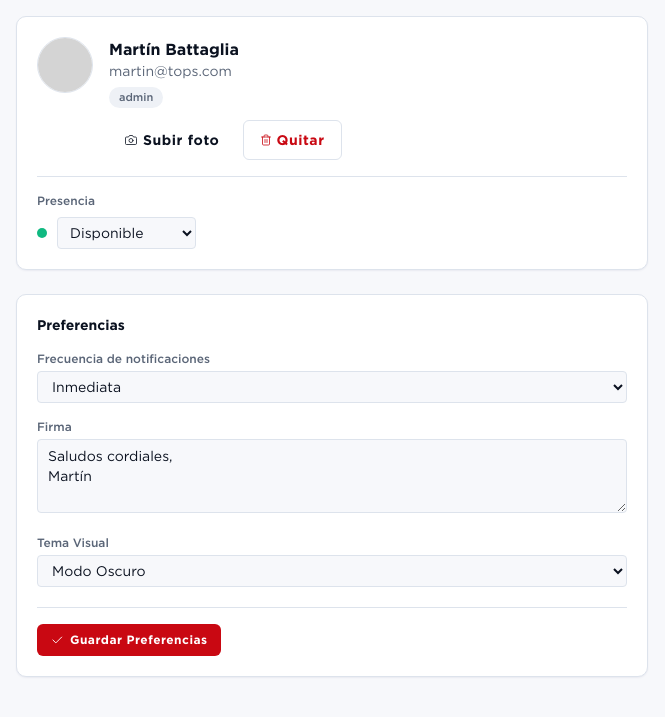
Test: ProfileForm DOM Regression & Safety Tests › muestra errores accesibles con role='alert' y aria-live='assertive'
Select "Ocupado" in the dropdown labelled "Presencia". click: (126, 232)
box: [57,216,196,248]
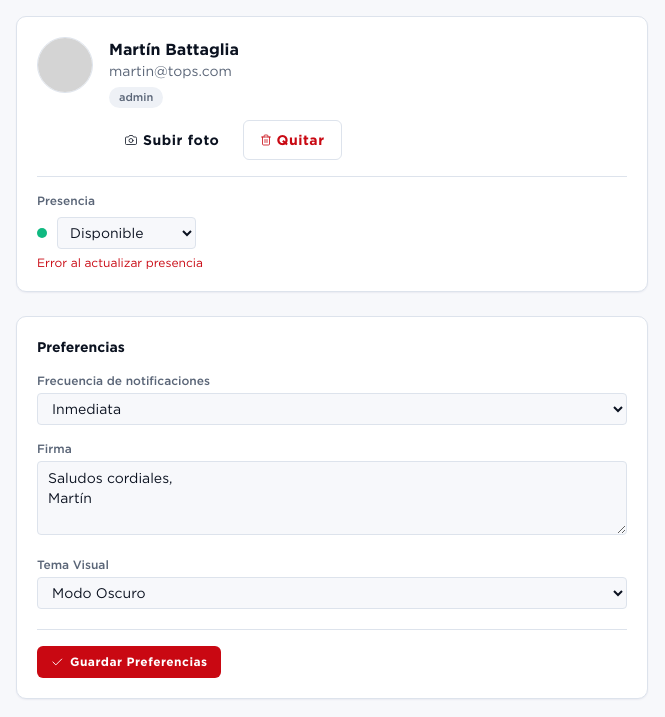
Now the message "Error al actualizar presencia" is shown, box [37,256,203,268]
